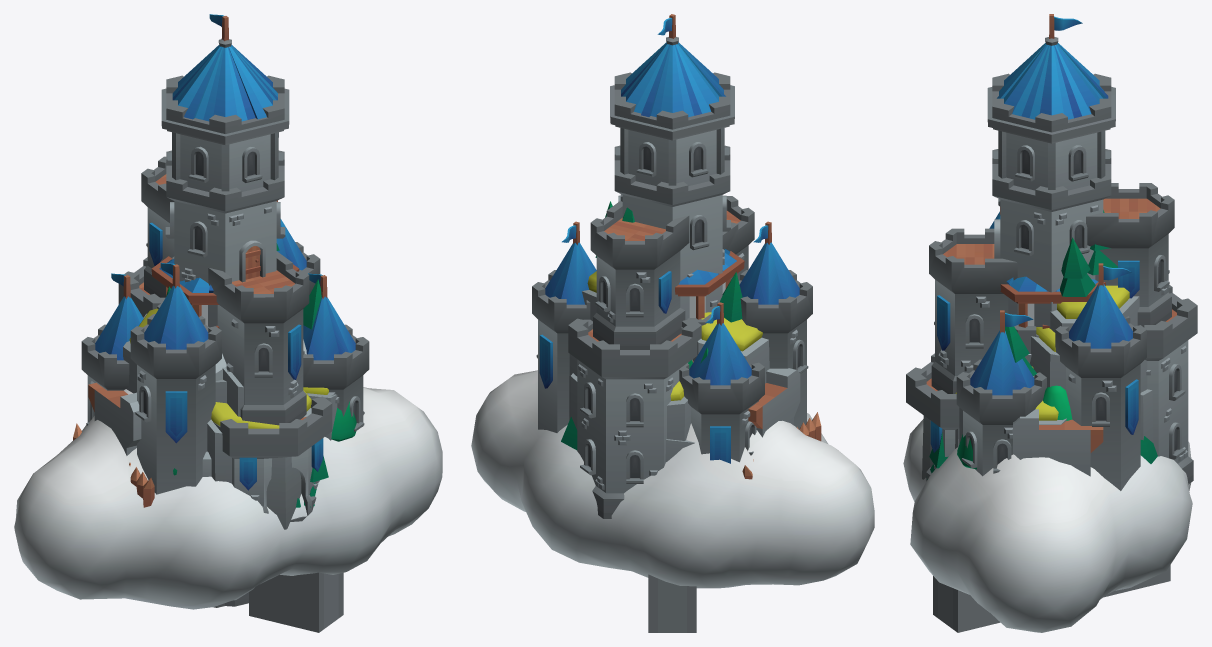
Rendered from env.glb.
3 renders of one model, left to right at view 1: azimuth 30°, elevation 25°; view 2: azimuth 150°, elevation 25°; view 3: azimuth 270°, elevation 25°, orthographic. The views are drawn at different scales.
Visible parts, largest first — view 1: building_castle_blue, cloud_big, building_bridge_A, mountain_C, wall_straight_gate, wall_straight, building_tower_A_top_blue, mountain_C_grass, trees_B_large, fence_wood_straight; view 2: building_castle_blue, cloud_big, building_bridge_A, mountain_C, building_tower_A_top_blue, wall_straight, mountain_B_grass_trees, mountain_C_grass, wall_straight_gate; view 3: building_castle_blue, cloud_big, mountain_B_grass_trees, wall_straight, building_bridge_A, building_tower_A_top_blue, mountain_C, trees_B_medium, trees_A_large, mountain_B, wall_straight_gate.
Boxes of the visible parts, left/top/right/bottom form: building_castle_blue: left=81, top=14, right=369, bottom=521; cloud_big: left=14, top=387, right=442, bottom=609; building_bridge_A: left=213, top=572, right=343, bottom=632; mountain_C: left=123, top=343, right=334, bottom=529; wall_straight_gate: left=90, top=339, right=306, bottom=455; wall_straight: left=88, top=382, right=137, bottom=455; building_tower_A_top_blue: left=151, top=256, right=299, bottom=328; mountain_C_grass: left=126, top=308, right=311, bottom=443; trees_B_large: left=173, top=401, right=356, bottom=475; fence_wood_straight: left=73, top=423, right=154, bottom=507; building_castle_blue: left=532, top=14, right=812, bottom=518; cloud_big: left=471, top=370, right=874, bottom=588; building_bridge_A: left=648, top=574, right=696, bottom=632; mountain_C: left=570, top=337, right=769, bottom=440; building_tower_A_top_blue: left=675, top=249, right=744, bottom=319; wall_straight: left=749, top=368, right=800, bottom=436; mountain_B_grass_trees: left=569, top=201, right=742, bottom=462; mountain_C_grass: left=670, top=312, right=762, bottom=435; wall_straight_gate: left=748, top=370, right=800, bottom=437; building_castle_blue: left=906, top=14, right=1197, bottom=490; cloud_big: left=903, top=419, right=1192, bottom=632; mountain_B_grass_trees: left=1005, top=210, right=1147, bottom=424; wall_straight: left=1013, top=409, right=1103, bottom=476; building_bridge_A: left=933, top=565, right=1170, bottom=632; building_tower_A_top_blue: left=1000, top=276, right=1105, bottom=328; mountain_C: left=922, top=389, right=1153, bottom=479; trees_B_medium: left=1043, top=385, right=1072, bottom=420; trees_A_large: left=926, top=433, right=1157, bottom=479; mountain_B: left=1030, top=296, right=1138, bottom=424; wall_straight_gate: left=1013, top=354, right=1097, bottom=461.
Size of the model in its own units: 3.61 by 4.98 by 2.28.
Materials: 1 (1 with a texture image).
